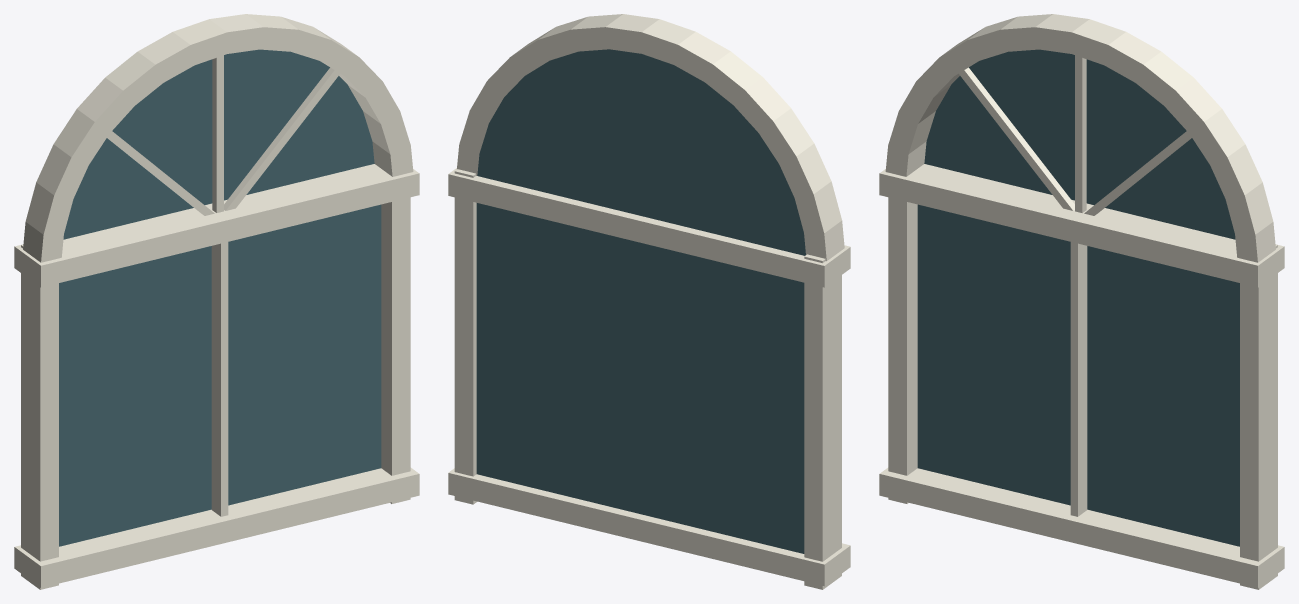
3 views of the same model, side by side, from view 1: azimuth 30°, elevation 25°; view 2: azimuth 150°, elevation 25°; view 3: azimuth 330°, elevation 25° (orthographic).
Visible parts, largest first — view 1: QH-A0042_V01_geometry; view 2: QH-A0042_V01_geometry; view 3: QH-A0042_V01_geometry.
Part boxes in pixels (x1=…): QH-A0042_V01_geometry: x1=14, y1=14, x2=419, y2=589; QH-A0042_V01_geometry: x1=448, y1=14, x2=850, y2=589; QH-A0042_V01_geometry: x1=879, y1=14, x2=1284, y2=589.
Size of the model in its own units: 1.82 by 2.36 by 0.22.
